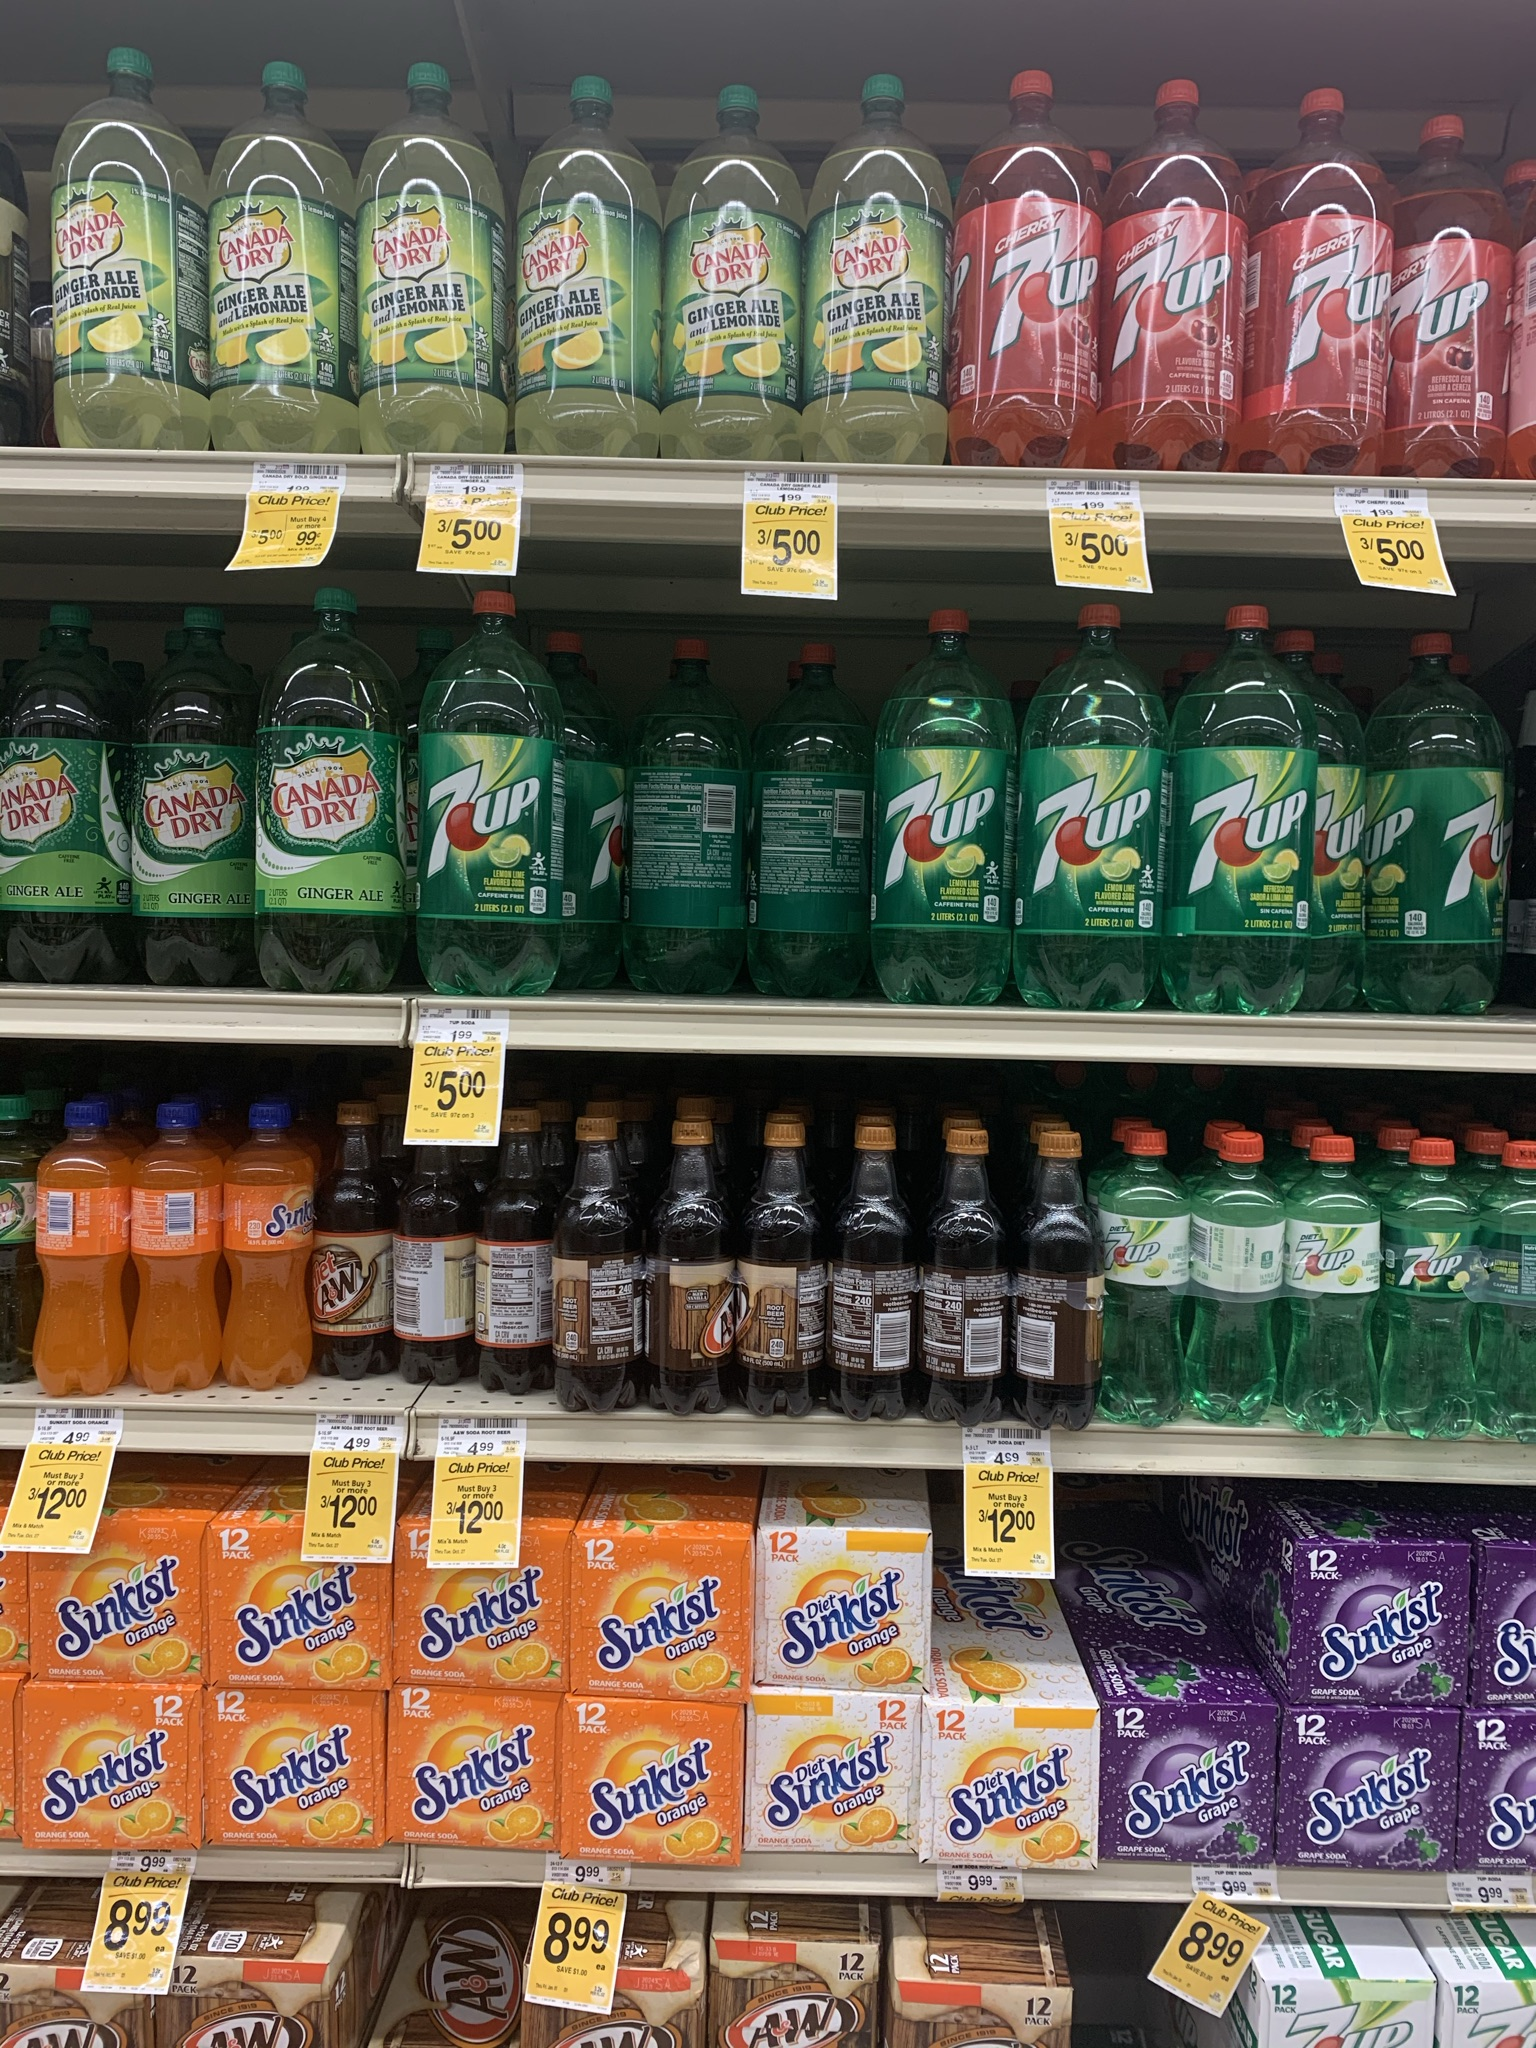7up soda: (1184, 610, 1326, 1030), (434, 606, 573, 1034), (887, 624, 1016, 1024), (1384, 626, 1507, 1039), (1270, 74, 1389, 460), (1125, 71, 1239, 471), (1044, 611, 1154, 1026), (979, 71, 1094, 440), (1417, 79, 1512, 498), (1099, 1126, 1194, 1435), (1220, 1143, 1279, 1459), (1417, 1129, 1468, 1438), (1312, 1142, 1359, 1414)
AW soda: (829, 1097, 925, 1409), (749, 1080, 834, 1421), (658, 1097, 739, 1450), (411, 1050, 489, 1369), (1013, 1134, 1084, 1466), (929, 1105, 992, 1466), (573, 1071, 639, 1406), (323, 1079, 389, 1414), (508, 1079, 565, 1416)
canada dry soda: (820, 74, 957, 456), (374, 66, 508, 448), (524, 69, 652, 448), (79, 69, 194, 469), (674, 69, 794, 452), (279, 611, 407, 955), (248, 61, 349, 471), (19, 619, 123, 992), (148, 611, 252, 980)
sunkist soda: (137, 1089, 239, 1443), (227, 1105, 329, 1429), (566, 1530, 749, 1706), (219, 1516, 397, 1693), (18, 1692, 189, 1869), (210, 1714, 394, 1866), (1133, 1693, 1289, 1871), (762, 1530, 933, 1692), (53, 1093, 144, 1388), (765, 1705, 920, 1866), (925, 1711, 1094, 1856), (32, 1519, 189, 1675), (402, 1526, 553, 1674), (1307, 1719, 1457, 1856), (579, 1729, 729, 1856), (424, 1716, 557, 1856), (1304, 1535, 1434, 1675)
